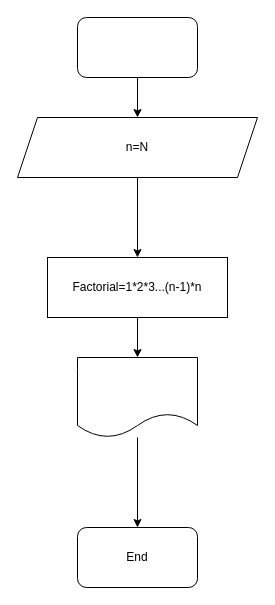
Image size: 275x605. Some labels were removed from this diagram. Each missing label, with the centre of its shape:
"PrintFactorial" belongs at [137,397].
"Start" belongs at [137,47].
